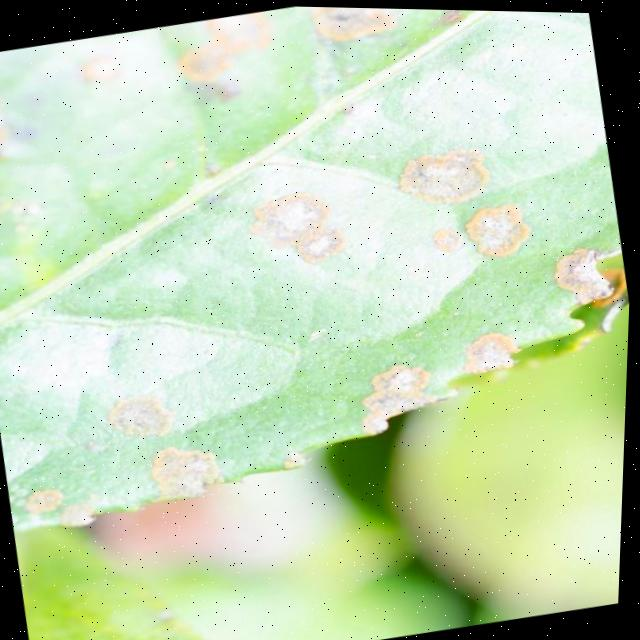Tea red rust: (0, 0, 577, 591)
